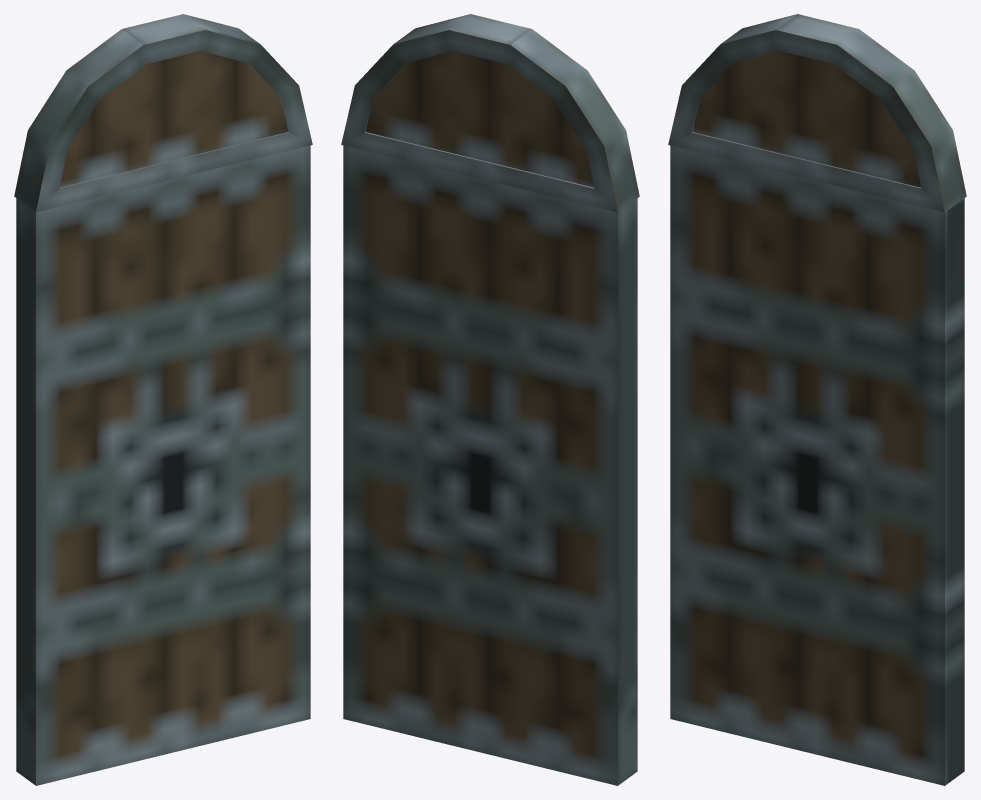
File: small_door.obj
The picture shows the model from 3 angles, left to right: view 1: azimuth 30°, elevation 25°; view 2: azimuth 150°, elevation 25°; view 3: azimuth 330°, elevation 25°; orthographic projection.
Visible parts, largest first — view 1: D_pixel_door_set_01:door_16_02_Mesh.010, D_pixel_door_set_01:door_16_top_02_Mesh.011; view 2: D_pixel_door_set_01:door_16_02_Mesh.010, D_pixel_door_set_01:door_16_top_02_Mesh.011; view 3: D_pixel_door_set_01:door_16_02_Mesh.010, D_pixel_door_set_01:door_16_top_02_Mesh.011.
Boxes of the visible parts, x1,y1,x2,y2 form: D_pixel_door_set_01:door_16_02_Mesh.010: (16,145,310,785); D_pixel_door_set_01:door_16_top_02_Mesh.011: (14,14,312,212); D_pixel_door_set_01:door_16_02_Mesh.010: (343,145,637,785); D_pixel_door_set_01:door_16_top_02_Mesh.011: (341,14,639,212); D_pixel_door_set_01:door_16_02_Mesh.010: (670,145,964,785); D_pixel_door_set_01:door_16_top_02_Mesh.011: (668,14,966,212).
Size of the model in its own units: 0.1614 by 0.3987 by 0.022.
